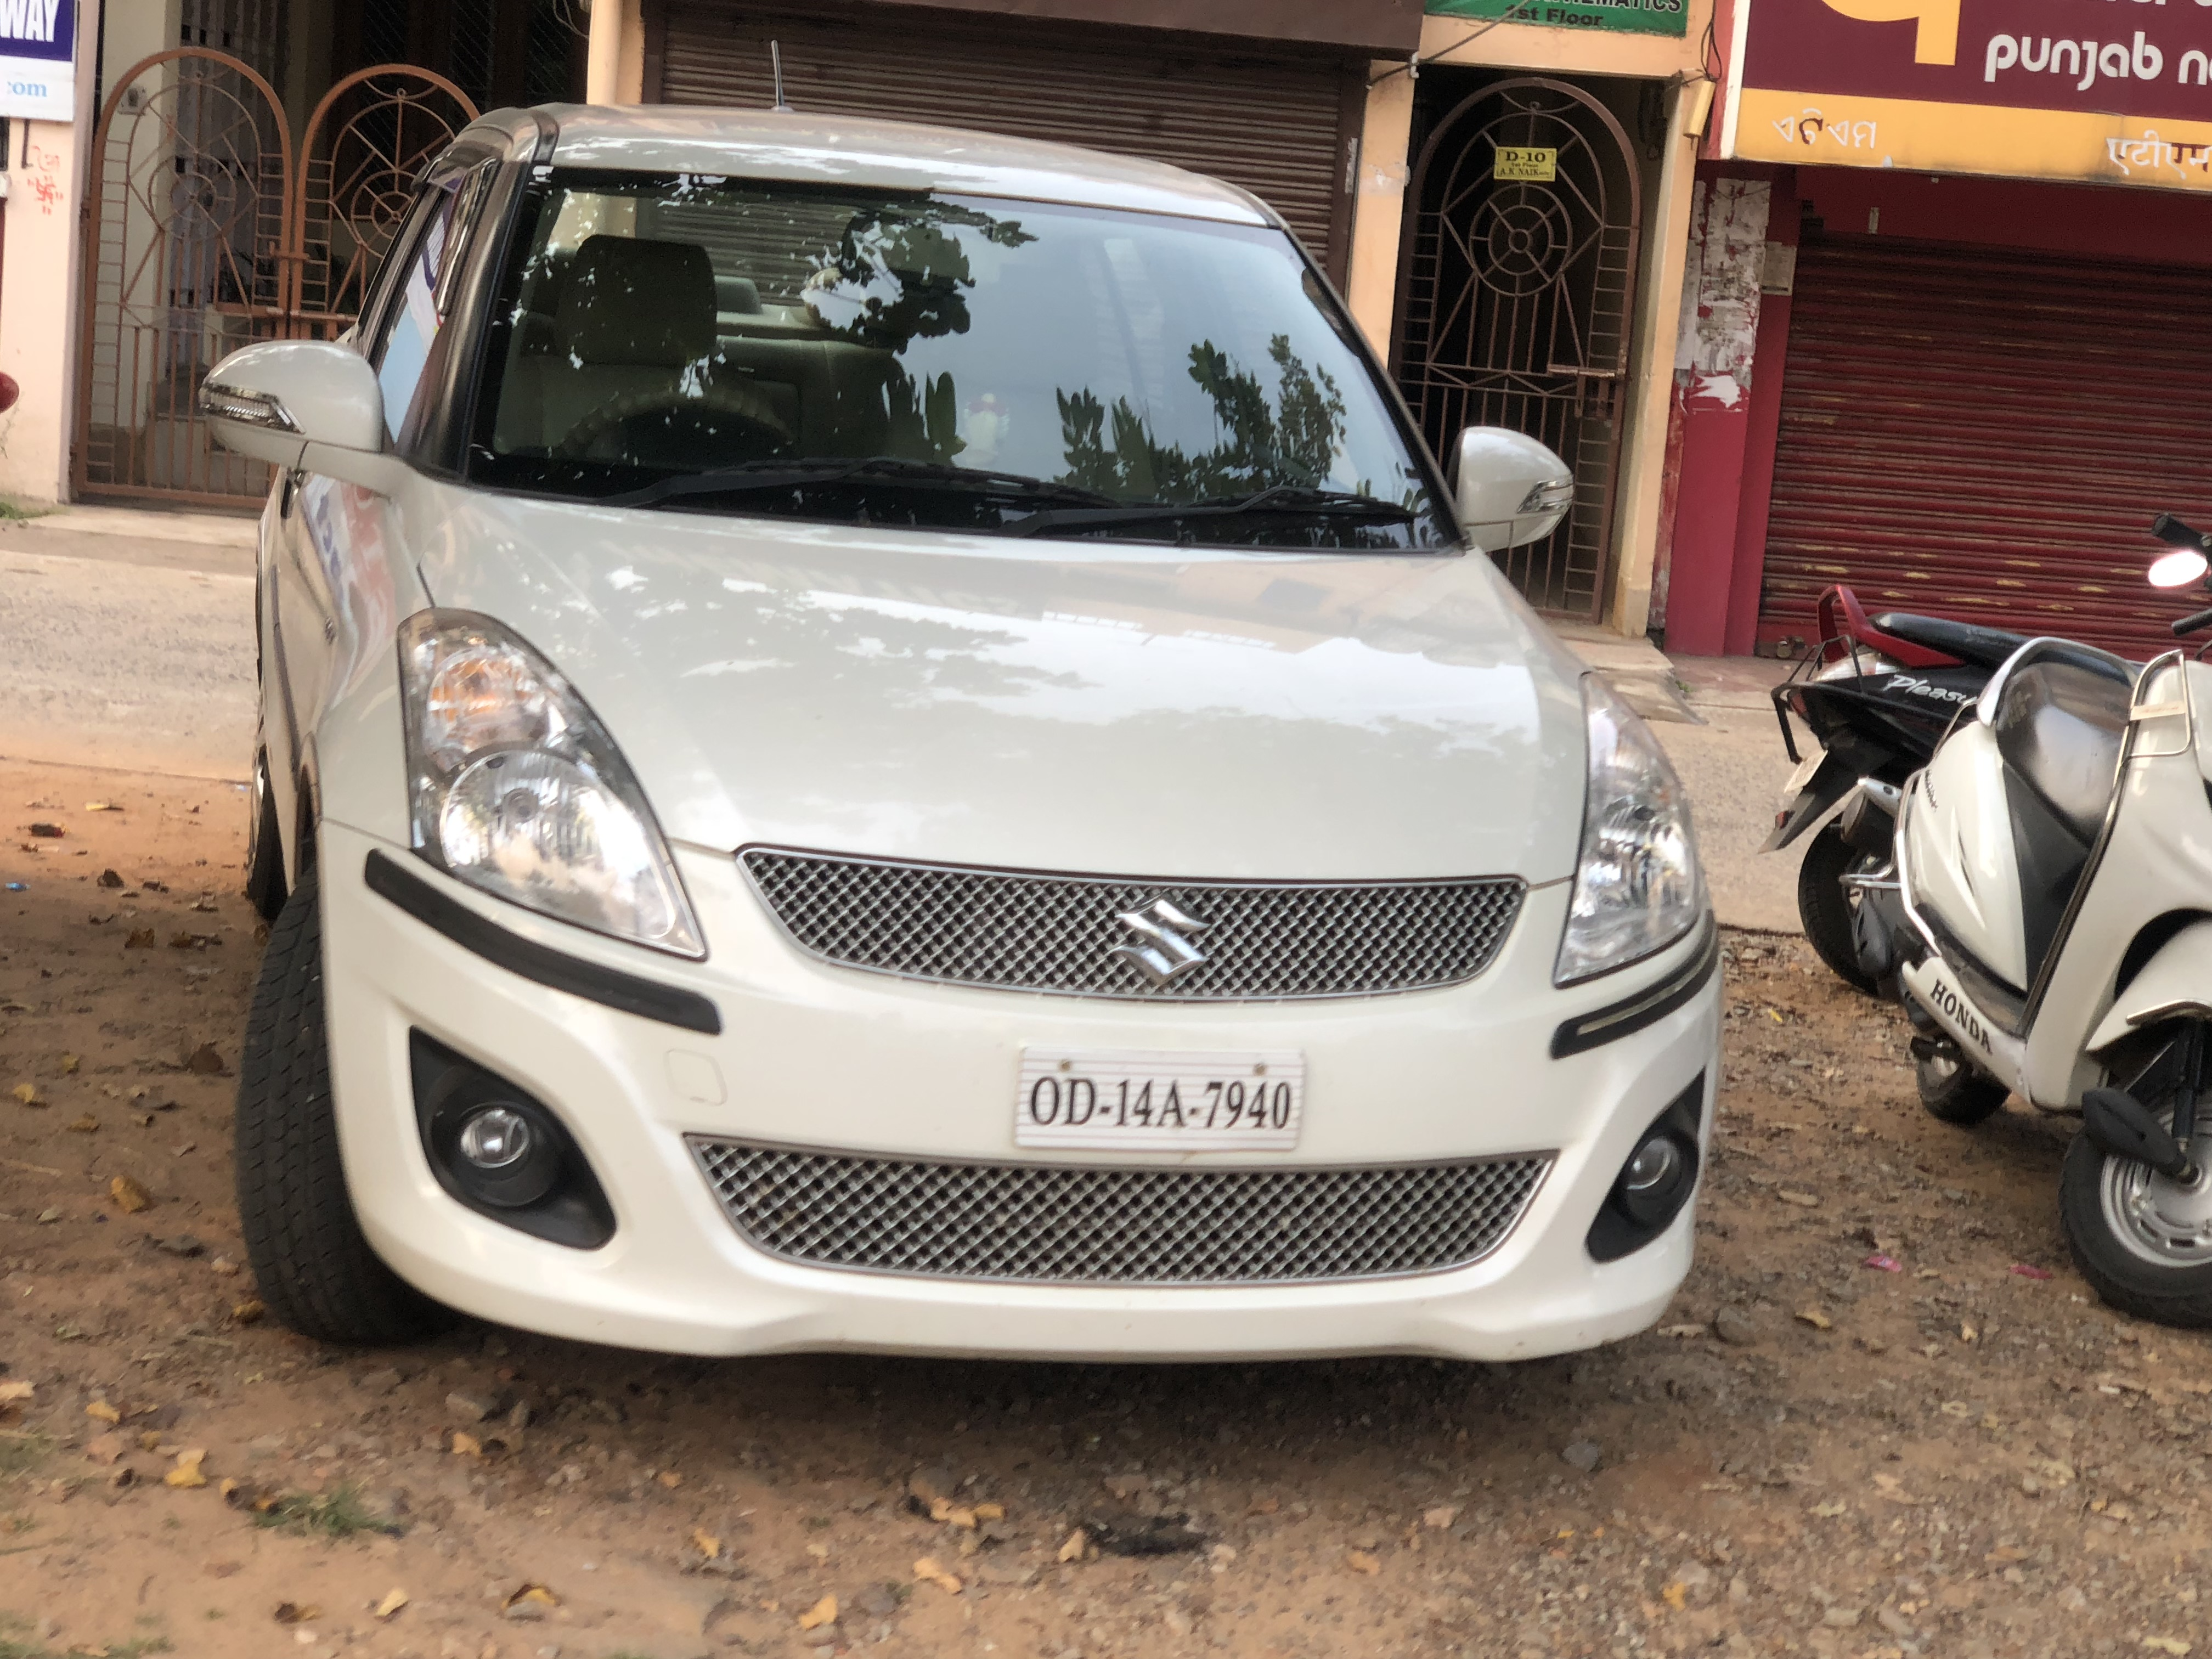licenseplate: (1018, 1040, 1316, 1156)
